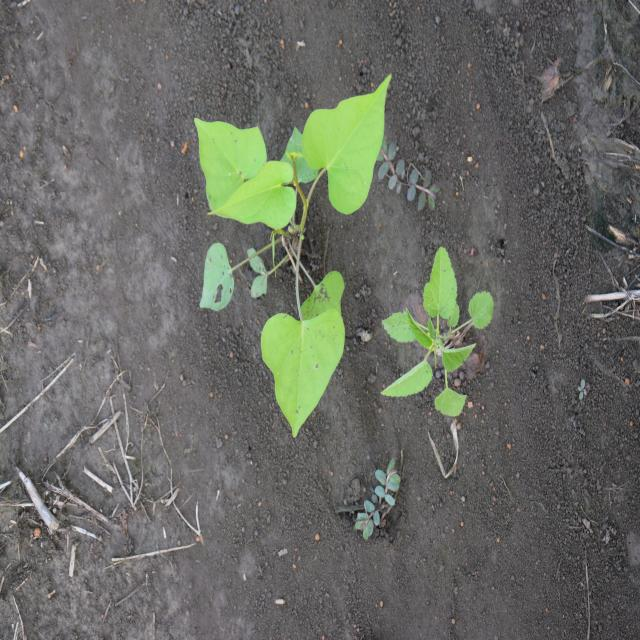MorningGlory: (192, 71, 394, 439)
PricklySida: (378, 246, 494, 418)
SpottedSpurge: (374, 133, 442, 215), (354, 457, 402, 540)
